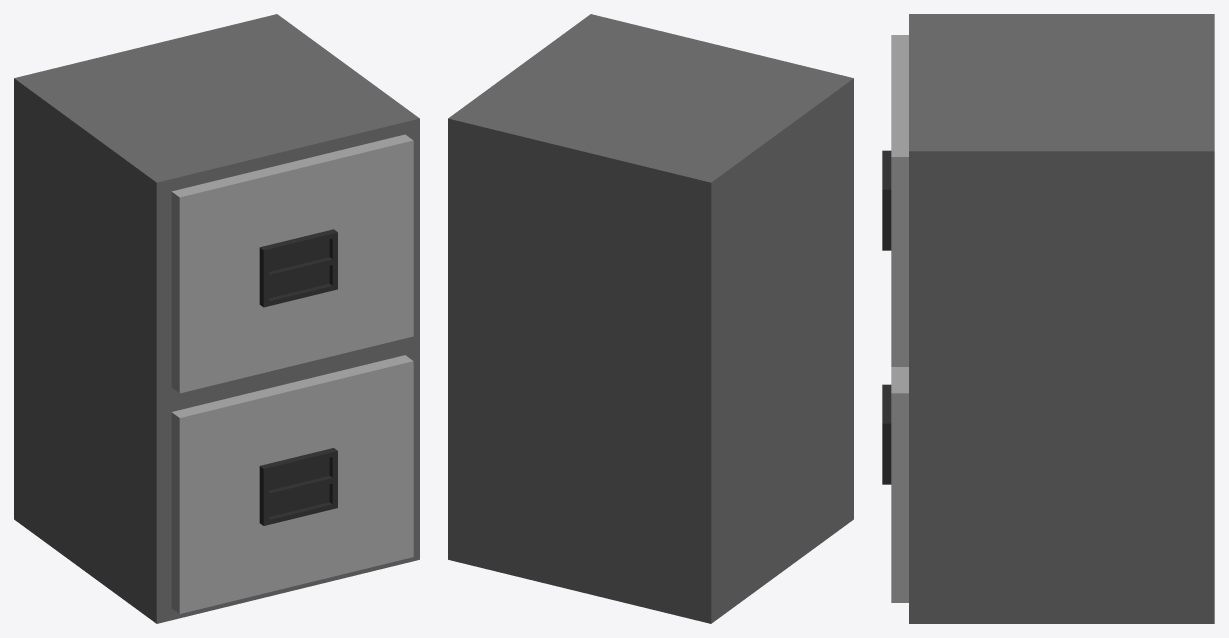
Rendered from cabinet2.FBX.
The picture shows the model from 3 angles, left to right: view 1: azimuth 30°, elevation 25°; view 2: azimuth 150°, elevation 25°; view 3: azimuth 270°, elevation 25°; orthographic projection. The views are drawn at different scales.
Visible parts, largest first — view 1: cabinet2; view 2: cabinet2; view 3: cabinet2.
Part boxes in pixels (left/top/right/bottom): cabinet2: left=14, top=14, right=419, bottom=623; cabinet2: left=448, top=14, right=853, bottom=623; cabinet2: left=882, top=14, right=1214, bottom=623.
Bounding box in the file's own units: 59.22 × 94.9 × 60.55.
